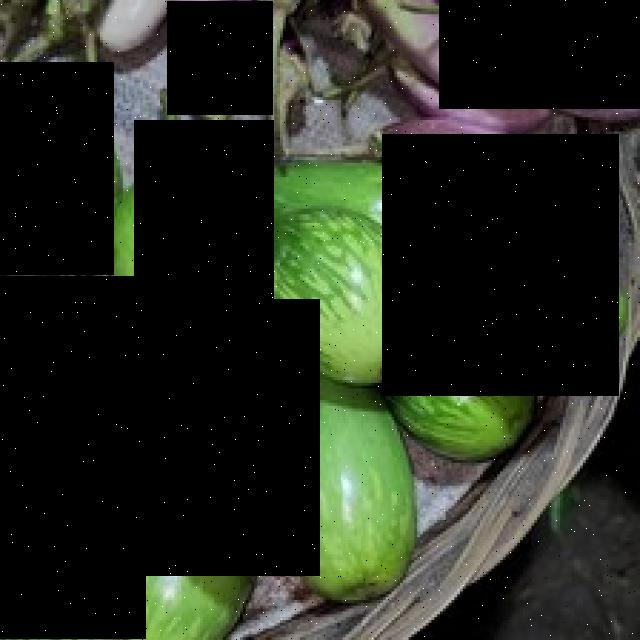Brinjal: (439, 0, 640, 109), (168, 2, 274, 116)
Green_Brinjal: (382, 134, 620, 396), (120, 299, 321, 576), (0, 276, 146, 640), (135, 120, 275, 351), (0, 62, 114, 276)
